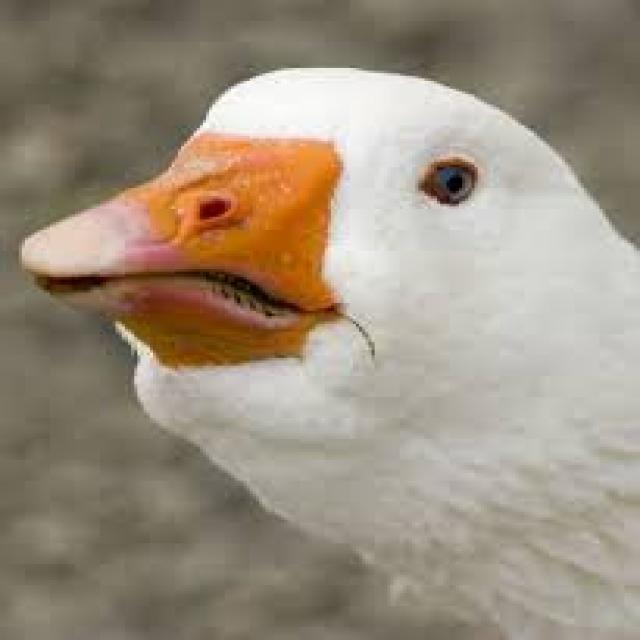Goose: (31, 57, 637, 640)
